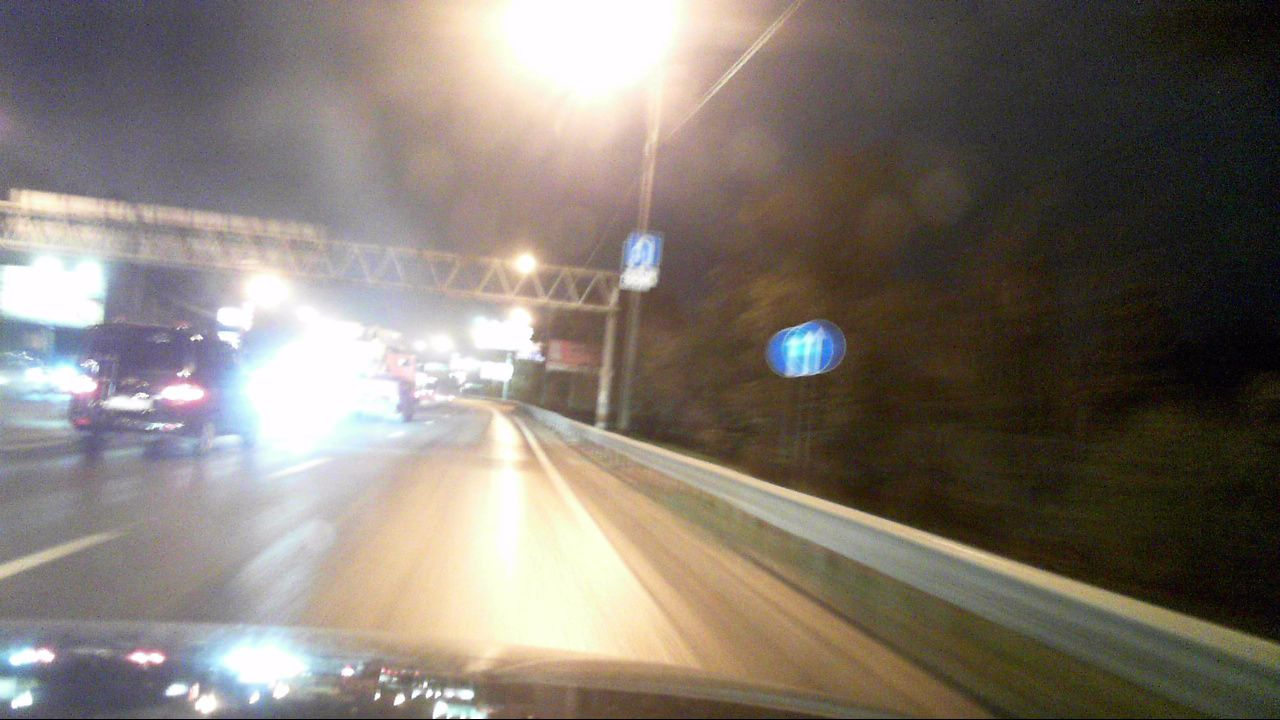U-turn: (627, 236, 659, 267)
